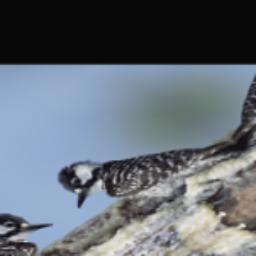Woodpecker: (32, 104, 256, 250)
